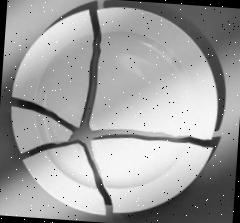glass: (4, 0, 225, 222)
